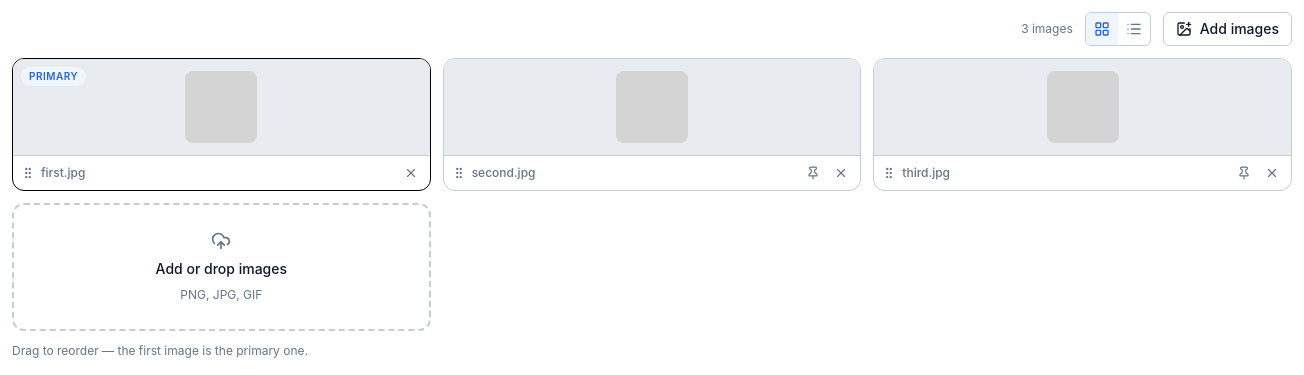
Scenario: ImageGalleryManager › layout toggle › row layout shows the alt text (or its absence) per image
The image size is (1304, 375).
What coordinates should you click on to do the following:
click the button named "Row view"
I would click on:
 (1134, 29)
Its box is x1=1118 y1=13 x2=1150 y2=45.
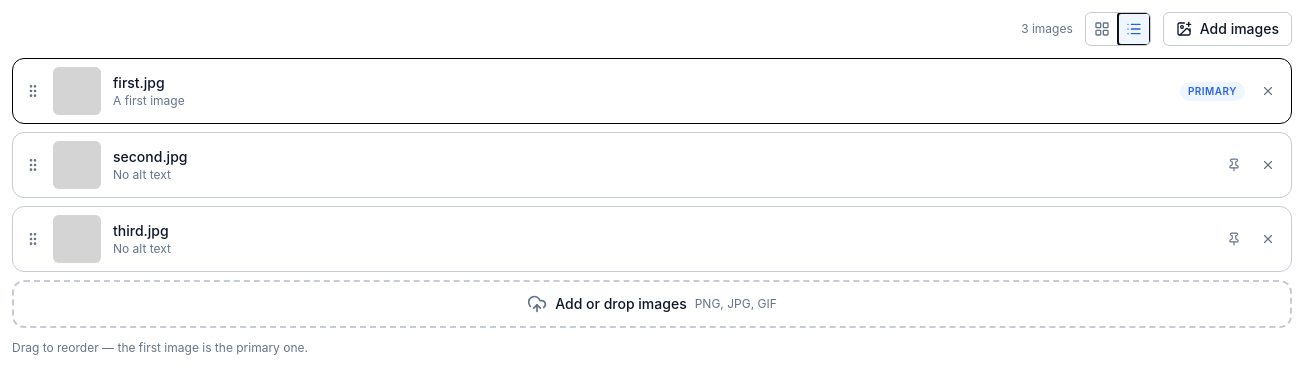
Result: the text "A first image" is shown at x1=113 y1=93 x2=185 y2=108
Result: the text "No alt text" is shown 2 times at x1=113 y1=167 x2=171 y2=182; x1=113 y1=241 x2=171 y2=256
